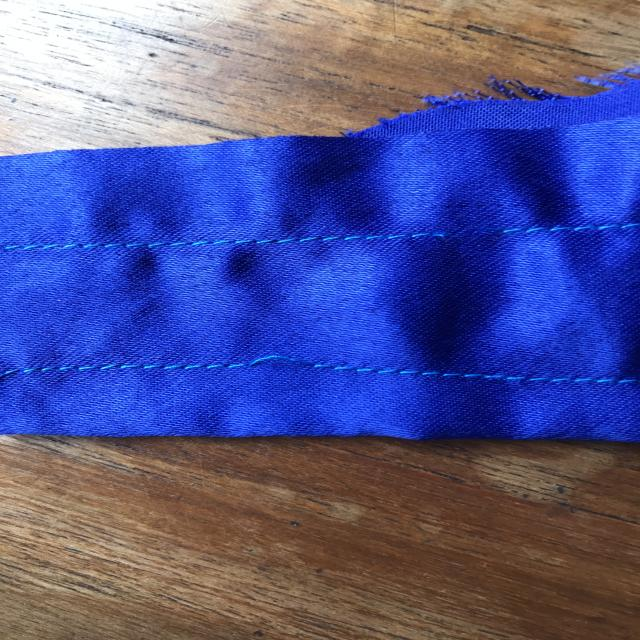broken: (418, 210, 536, 257)
good: (437, 357, 582, 398)
skip: (212, 341, 348, 388)
